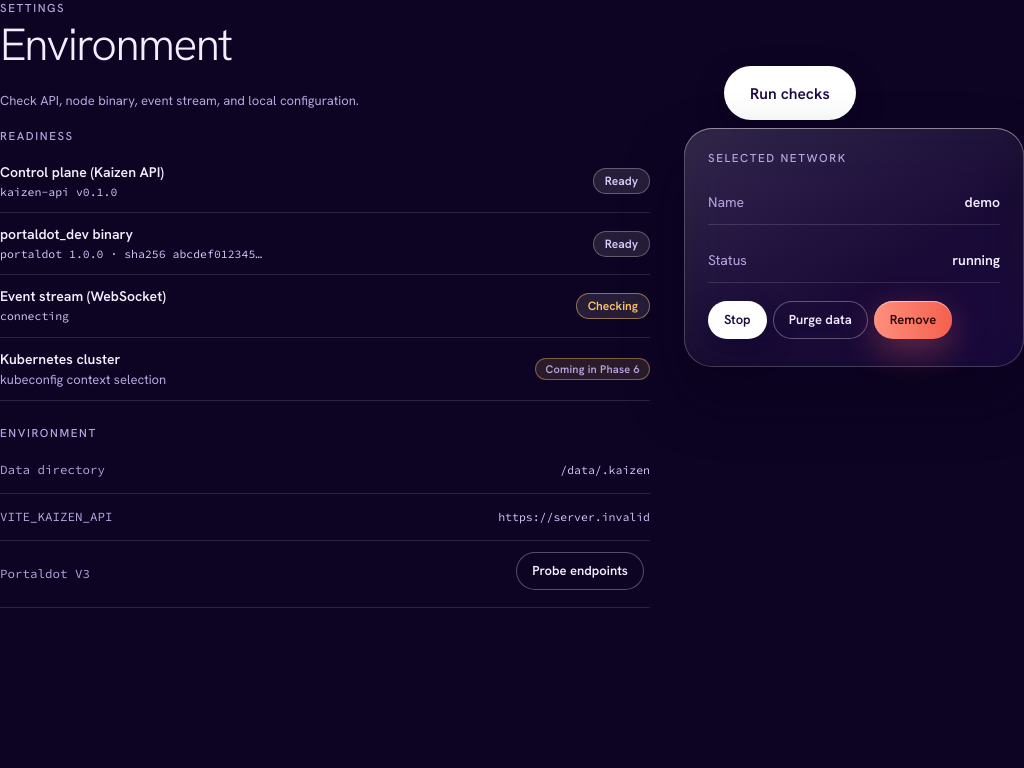
it: Settings › reports real readiness and removes a network only after confirm
The image size is (1024, 768).
expect the text "kaizen-api v0.1.0" is shown: met, box left=0, top=184, right=117, bottom=198
expect the text "portaldot 1.0.0 · sha256 abcdef012345…" is shown: met, box left=0, top=245, right=262, bottom=263
Click the button "Remove".
click(913, 320)  # box left=874, top=300, right=952, bottom=338
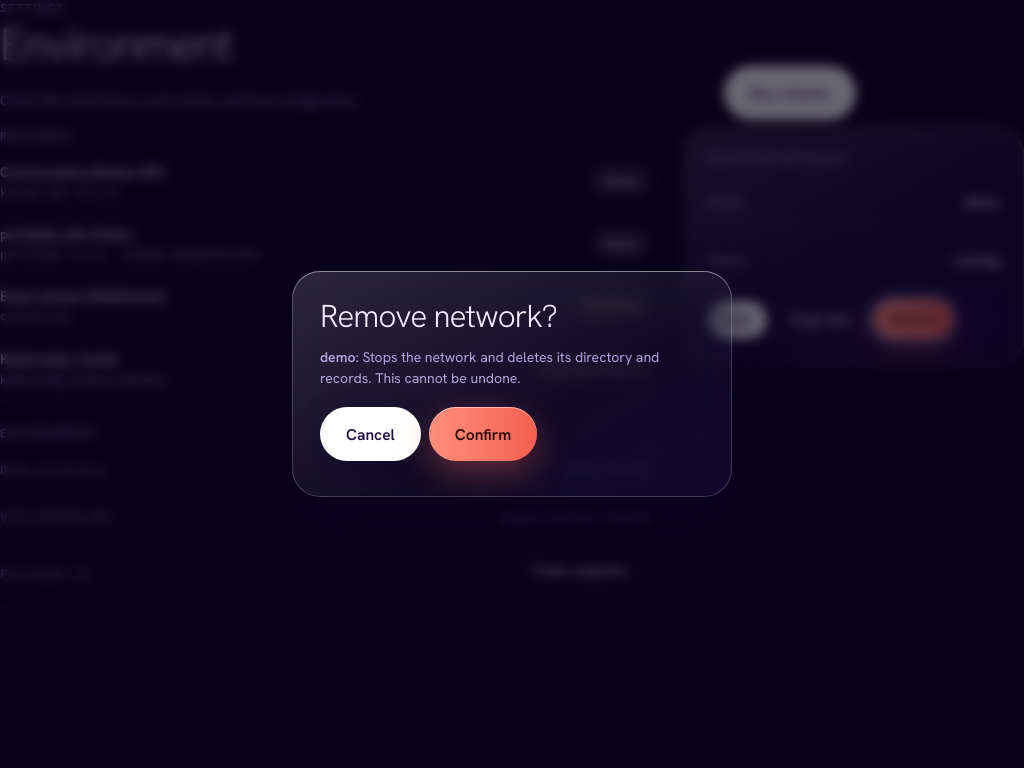
Click the button "Confirm".
click(483, 434)  # box left=429, top=408, right=537, bottom=462
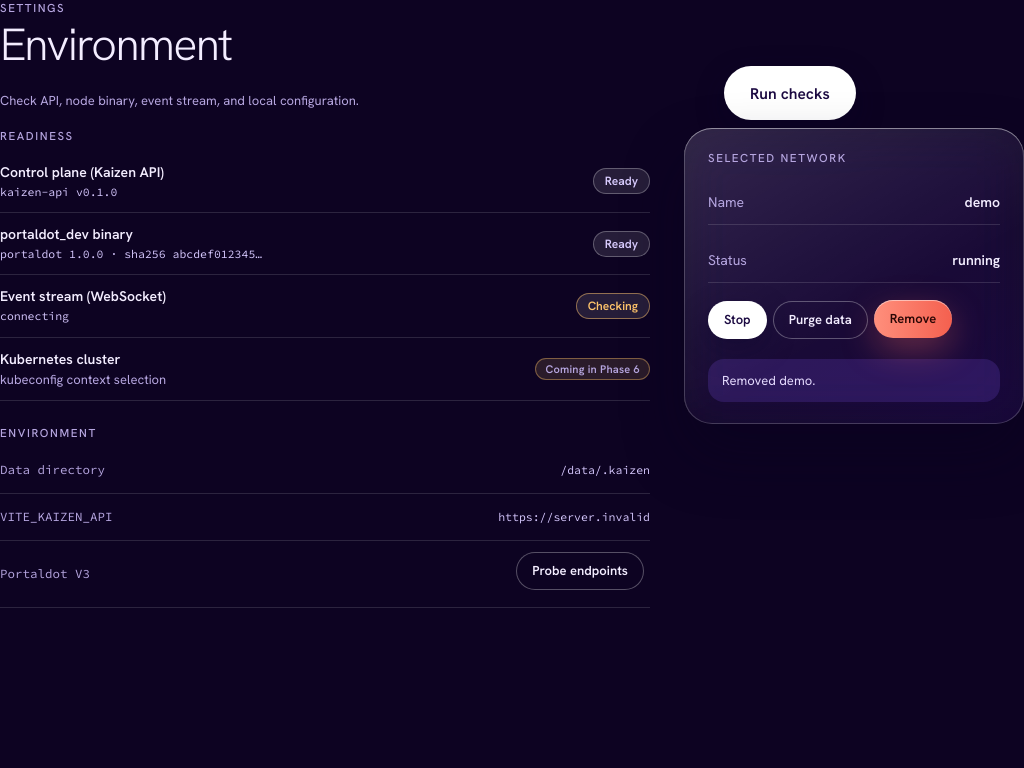
expect the text "Removed demo." is shown: met, box left=708, top=358, right=1000, bottom=402
